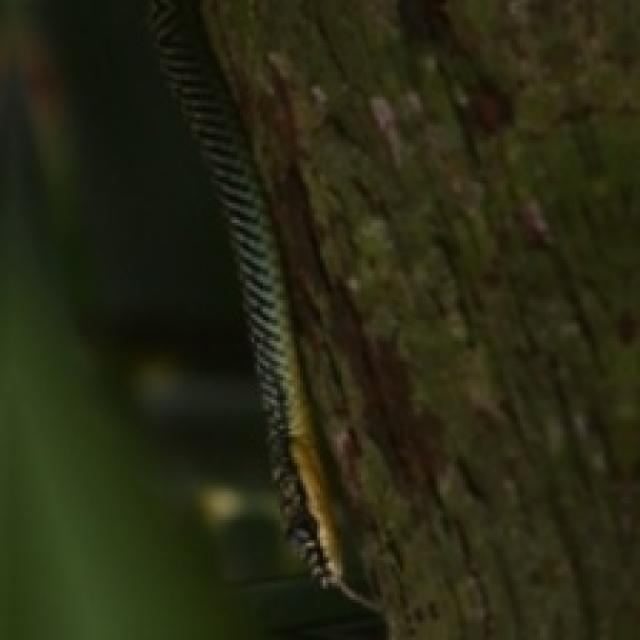paradise tree snake: (149, 0, 374, 606)
